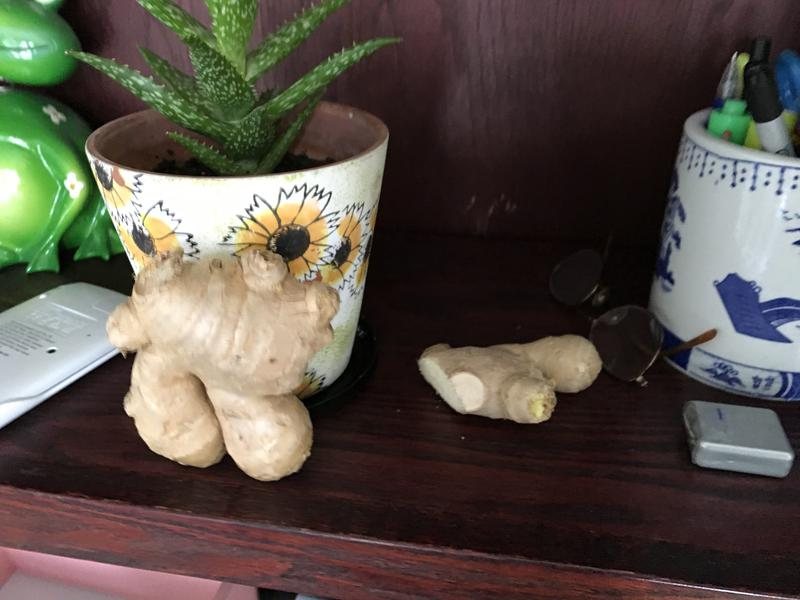ginger: (97, 242, 354, 490), (412, 321, 614, 434)
